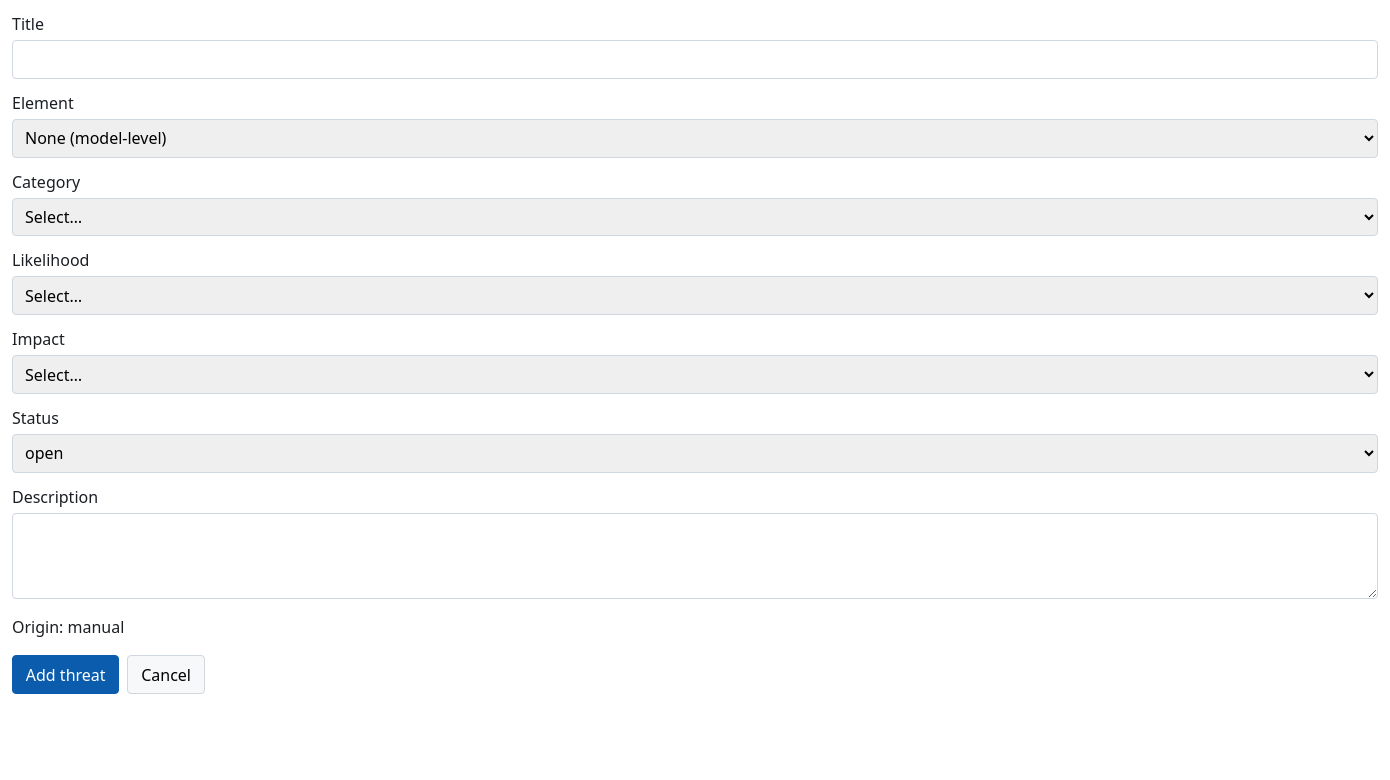
it: a client-side rejection › ThreatForm names every failing field, in form order, and focuses the first
Step 1. Click the button "Add threat" → {"x": 66, "y": 675}, box left=12, top=656, right=119, bottom=694
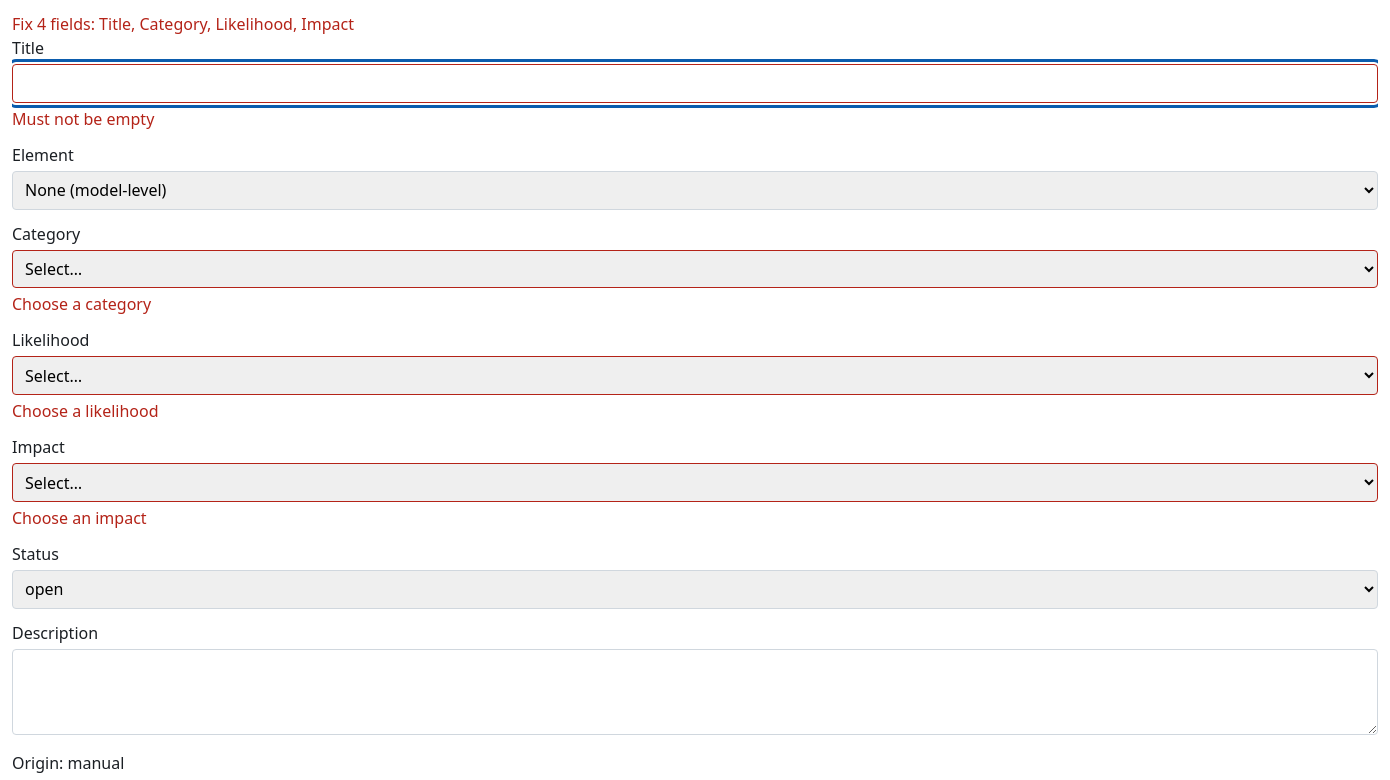
Result: the message reads "Fix 4 fields: Title, Category, Likelihood, Impact" at left=12, top=13, right=354, bottom=35
